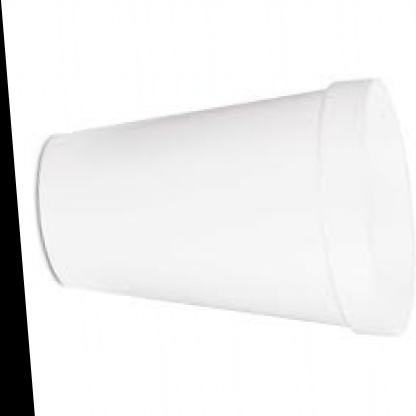Plastic: (4, 64, 416, 359)
